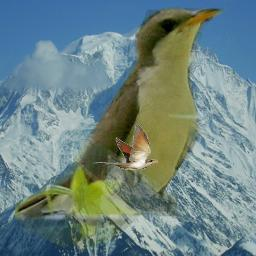Cuckoo: (15, 1, 227, 251), (92, 124, 158, 170)
